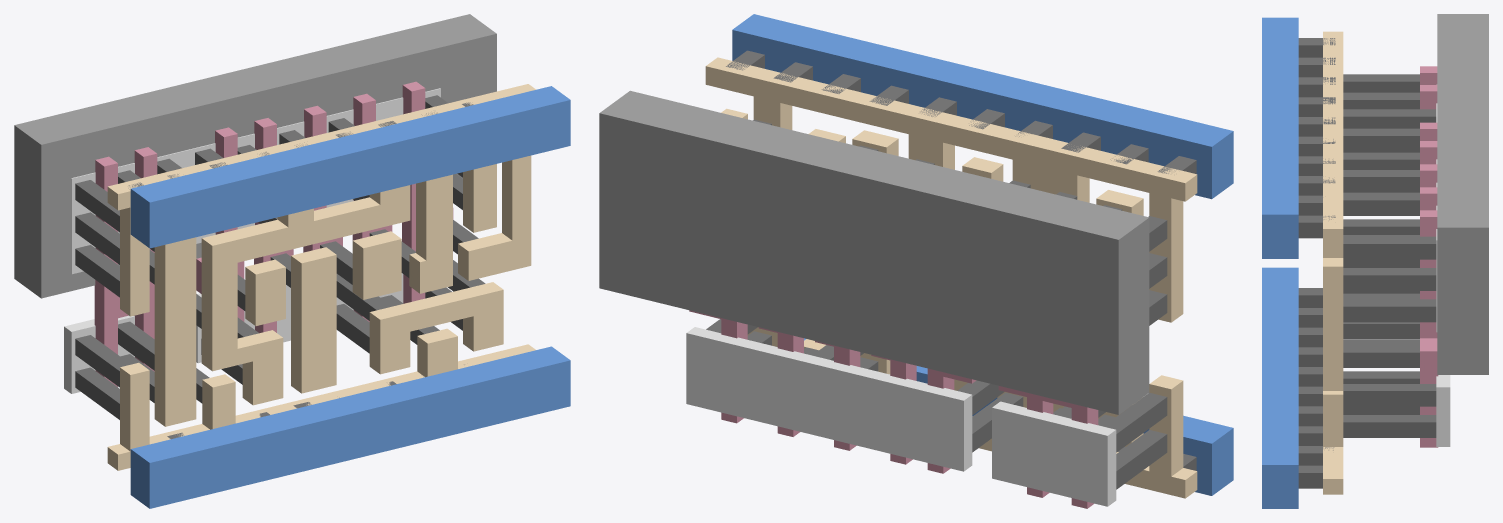
Rendered from sky130_fd_sc_hd__o2111a_2.gds.gltf.
3 renders of one model, left to right at view 1: azimuth 30°, elevation 25°; view 2: azimuth 150°, elevation 25°; view 3: azimuth 270°, elevation 25°, orthographic. The views are drawn at different scales.
Visible parts, largest first — view 1: sky130_fd_sc_hd__o2111a_2_li1, sky130_fd_sc_hd__o2111a_2_met1, sky130_fd_sc_hd__o2111a_2_nwell, sky130_fd_sc_hd__o2111a_2_licon, sky130_fd_sc_hd__o2111a_2_poly, sky130_fd_sc_hd__o2111a_2_diff; view 2: sky130_fd_sc_hd__o2111a_2_nwell, sky130_fd_sc_hd__o2111a_2_diff, sky130_fd_sc_hd__o2111a_2_li1, sky130_fd_sc_hd__o2111a_2_met1, sky130_fd_sc_hd__o2111a_2_licon, sky130_fd_sc_hd__o2111a_2_mcon, sky130_fd_sc_hd__o2111a_2_poly; view 3: sky130_fd_sc_hd__o2111a_2_licon, sky130_fd_sc_hd__o2111a_2_nwell, sky130_fd_sc_hd__o2111a_2_met1, sky130_fd_sc_hd__o2111a_2_mcon, sky130_fd_sc_hd__o2111a_2_li1, sky130_fd_sc_hd__o2111a_2_poly, sky130_fd_sc_hd__o2111a_2_diff.
Part boxes in pixels (box(x1,y1,x2,y2)): sky130_fd_sc_hd__o2111a_2_li1: box(107, 84, 535, 470); sky130_fd_sc_hd__o2111a_2_met1: box(130, 86, 570, 508); sky130_fd_sc_hd__o2111a_2_nwell: box(14, 14, 496, 298); sky130_fd_sc_hd__o2111a_2_licon: box(75, 95, 485, 419); sky130_fd_sc_hd__o2111a_2_poly: box(94, 81, 453, 386); sky130_fd_sc_hd__o2111a_2_diff: box(64, 88, 440, 393); sky130_fd_sc_hd__o2111a_2_nwell: box(599, 90, 1149, 414); sky130_fd_sc_hd__o2111a_2_diff: box(686, 327, 1116, 506); sky130_fd_sc_hd__o2111a_2_li1: box(705, 57, 1197, 498); sky130_fd_sc_hd__o2111a_2_met1: box(732, 14, 1233, 495); sky130_fd_sc_hd__o2111a_2_licon: box(706, 119, 1167, 489); sky130_fd_sc_hd__o2111a_2_mcon: box(726, 50, 1196, 470); sky130_fd_sc_hd__o2111a_2_poly: box(689, 310, 1098, 508); sky130_fd_sc_hd__o2111a_2_licon: box(1343, 74, 1436, 437); sky130_fd_sc_hd__o2111a_2_nwell: box(1437, 14, 1488, 374); sky130_fd_sc_hd__o2111a_2_met1: box(1262, 17, 1298, 508); sky130_fd_sc_hd__o2111a_2_mcon: box(1298, 38, 1335, 488); sky130_fd_sc_hd__o2111a_2_li1: box(1323, 31, 1343, 494); sky130_fd_sc_hd__o2111a_2_poly: box(1420, 66, 1438, 447); sky130_fd_sc_hd__o2111a_2_diff: box(1436, 84, 1450, 446).
Bounding box in the file's own units: 4.98 × 3.2 × 2.24.
